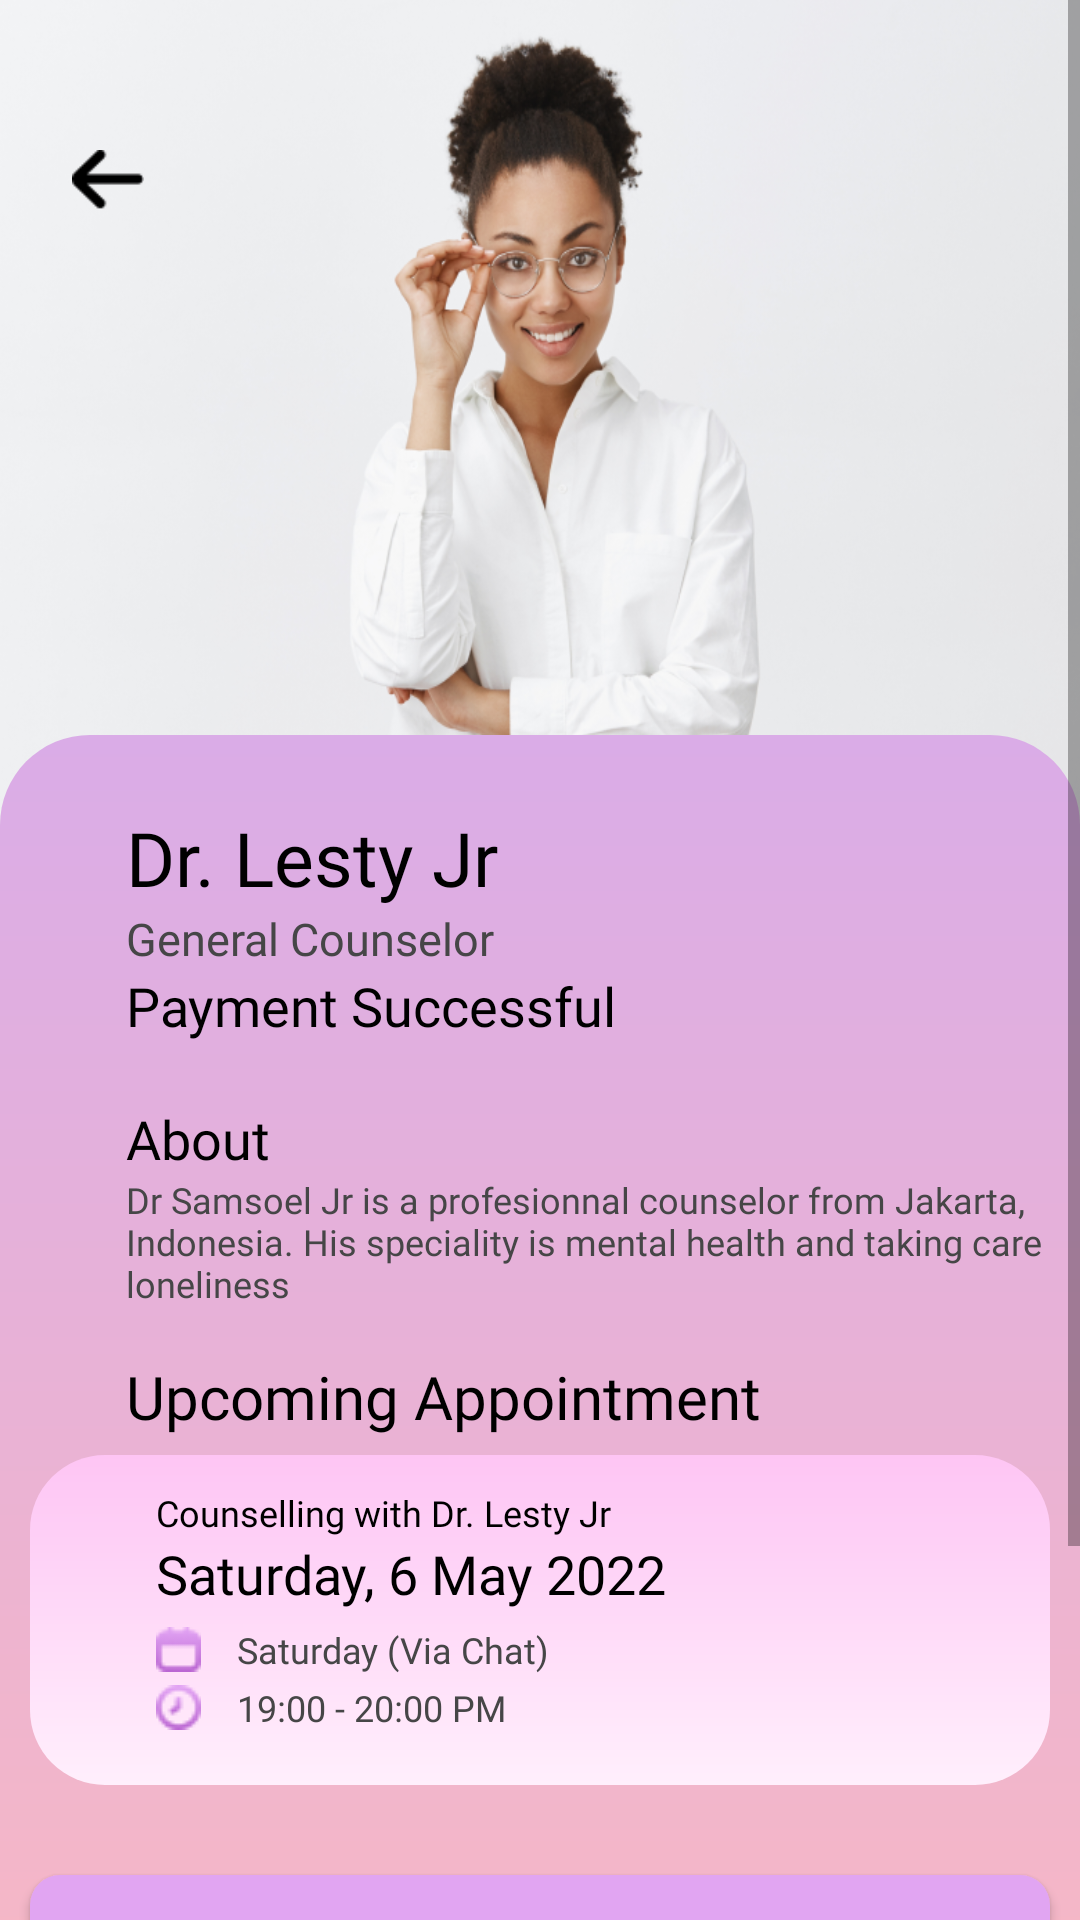

Icon click points for this 1080 x 1920 phone screenshot, format [x,y]:
back: [108,179]
